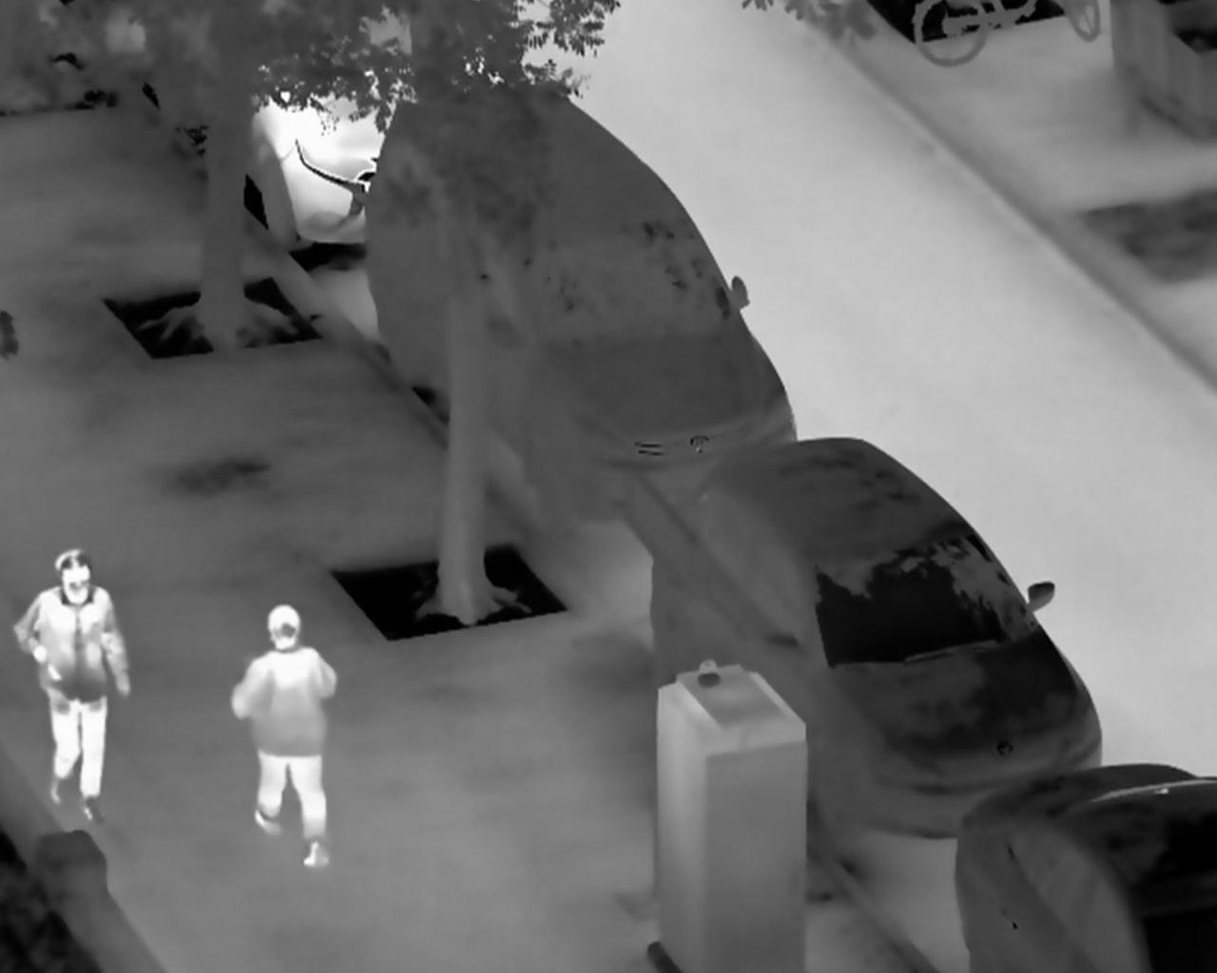person: (10, 547, 131, 825), (227, 602, 341, 871)
